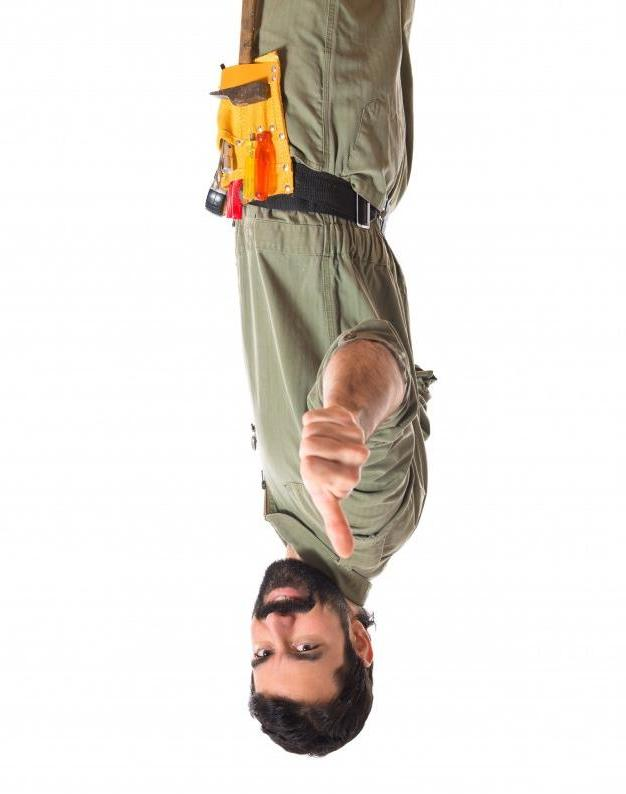thumbsdown: (300, 406, 370, 558)
